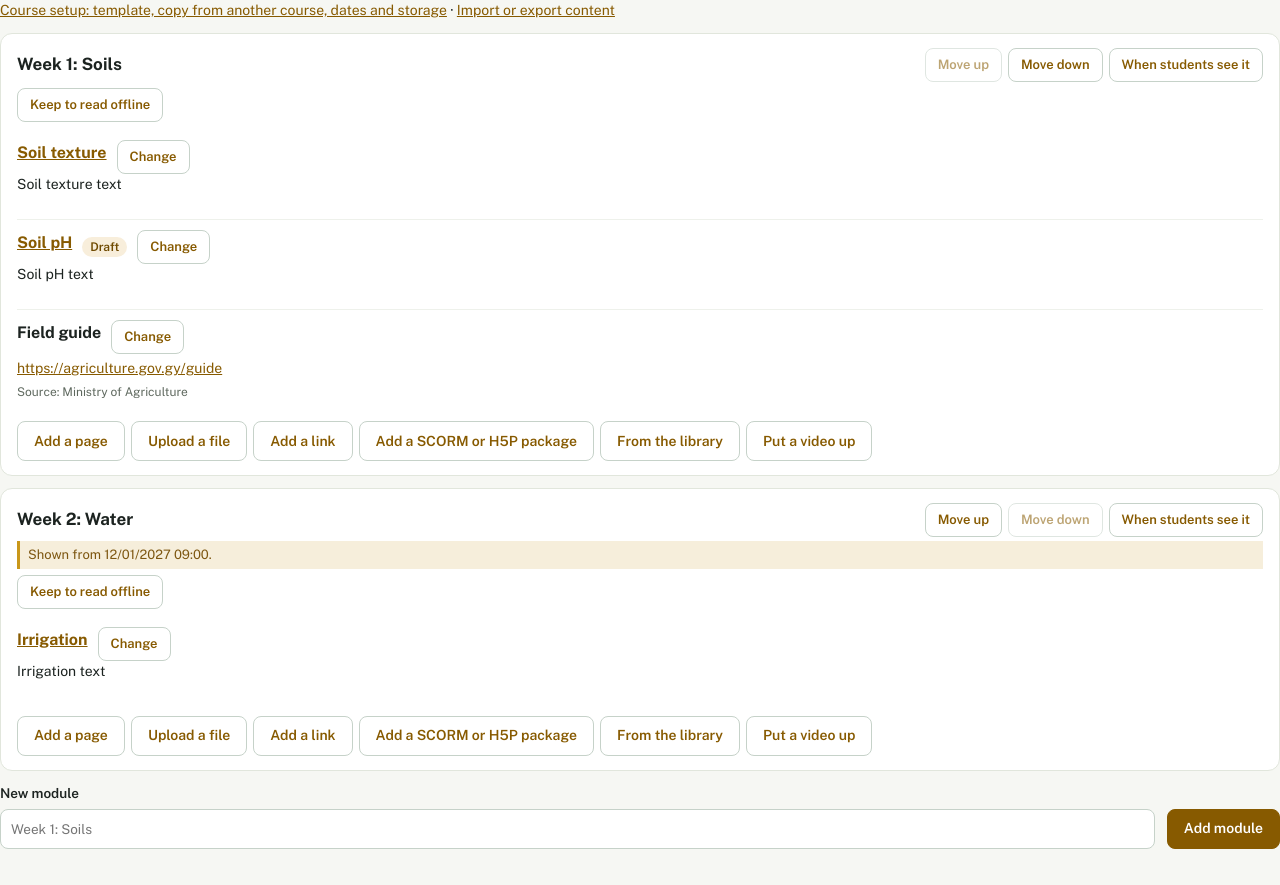
Test case: the Content tab for teaching staff (items 2.15 and 2.16) › sets a module's conditions without offering its own items, and clears them
Click the button "When students see it" in the row of "Week 1: Soils" at (1186, 65), box [1109, 48, 1263, 82]
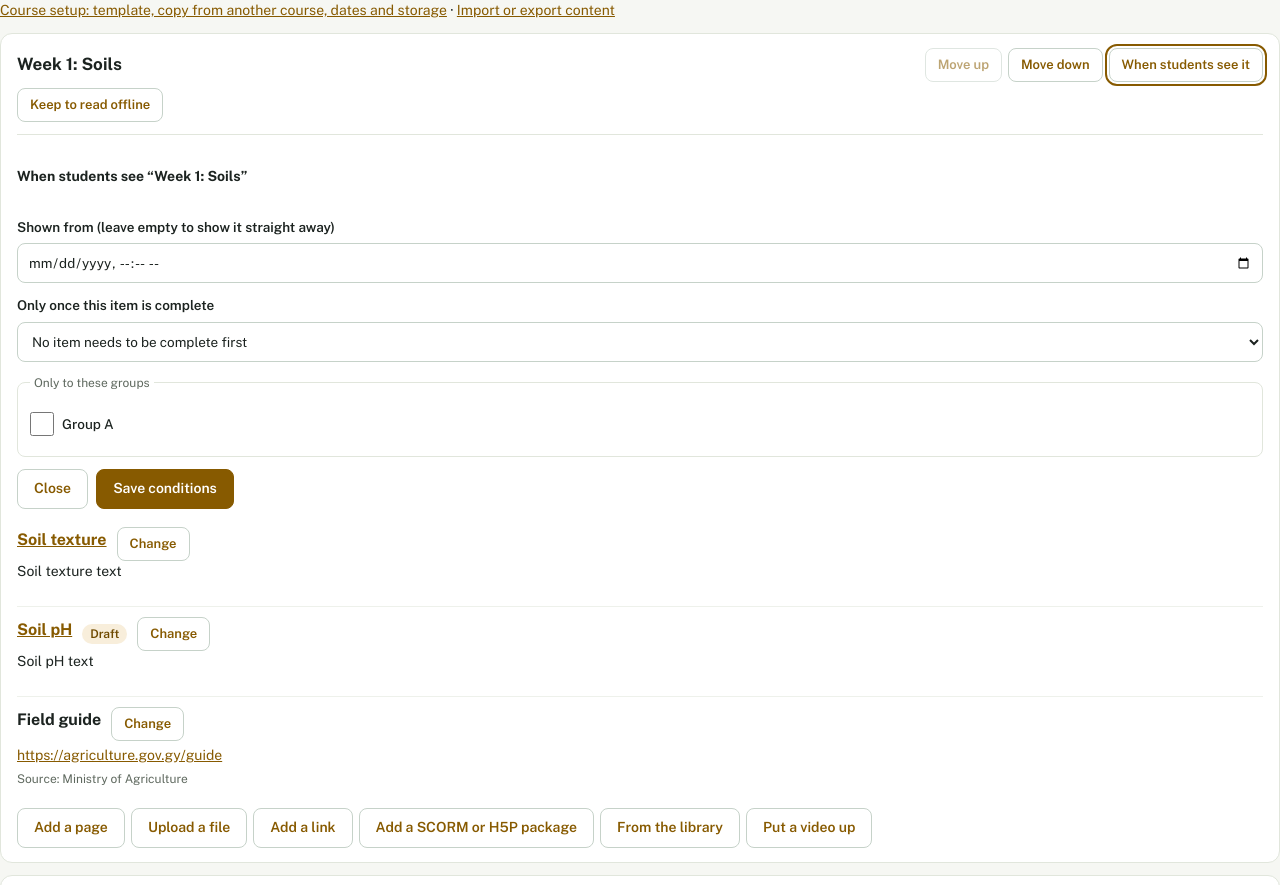
Click the button "Save conditions" at (165, 489), box [96, 469, 234, 509]
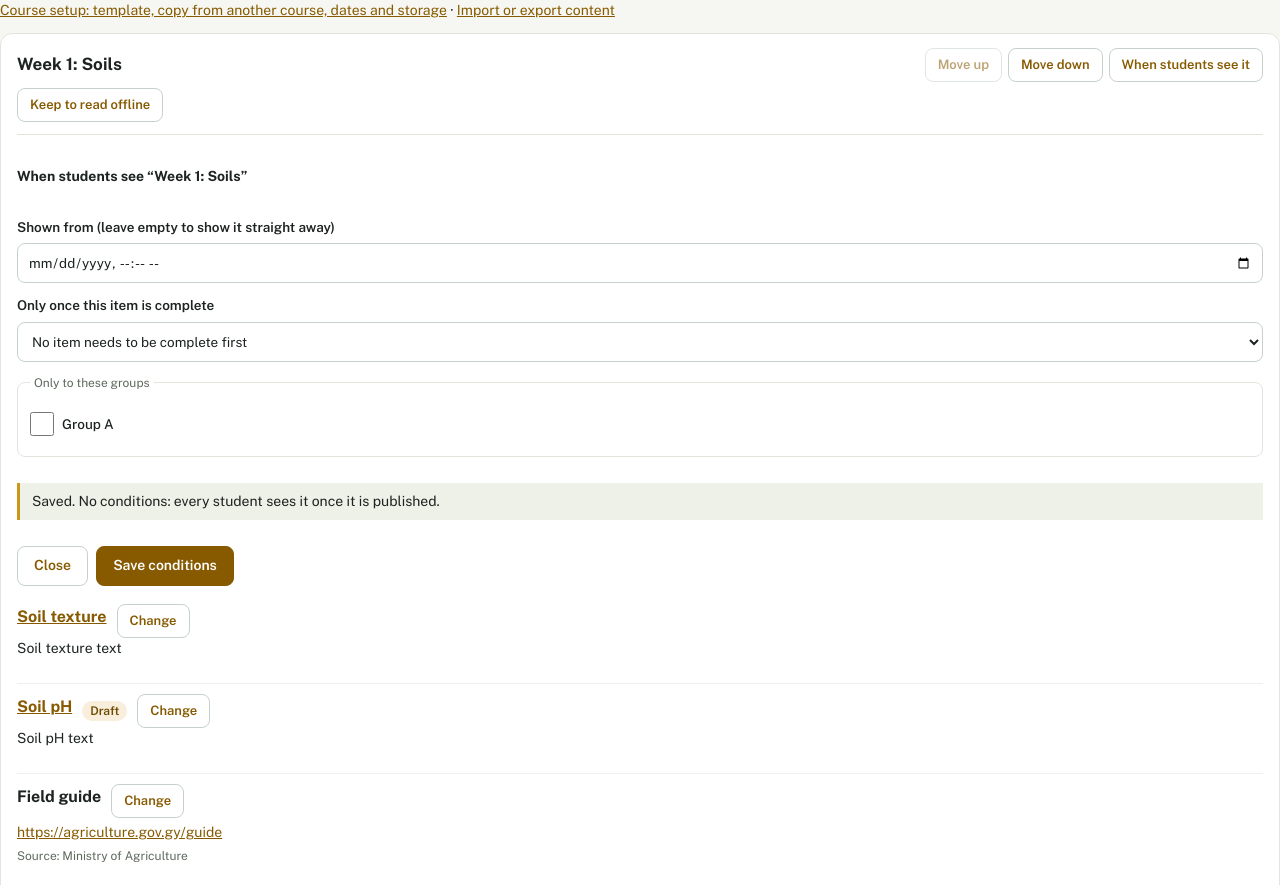
Expected: the message shows "No conditions: every student sees it once it is published.", [78, 493, 440, 509]
